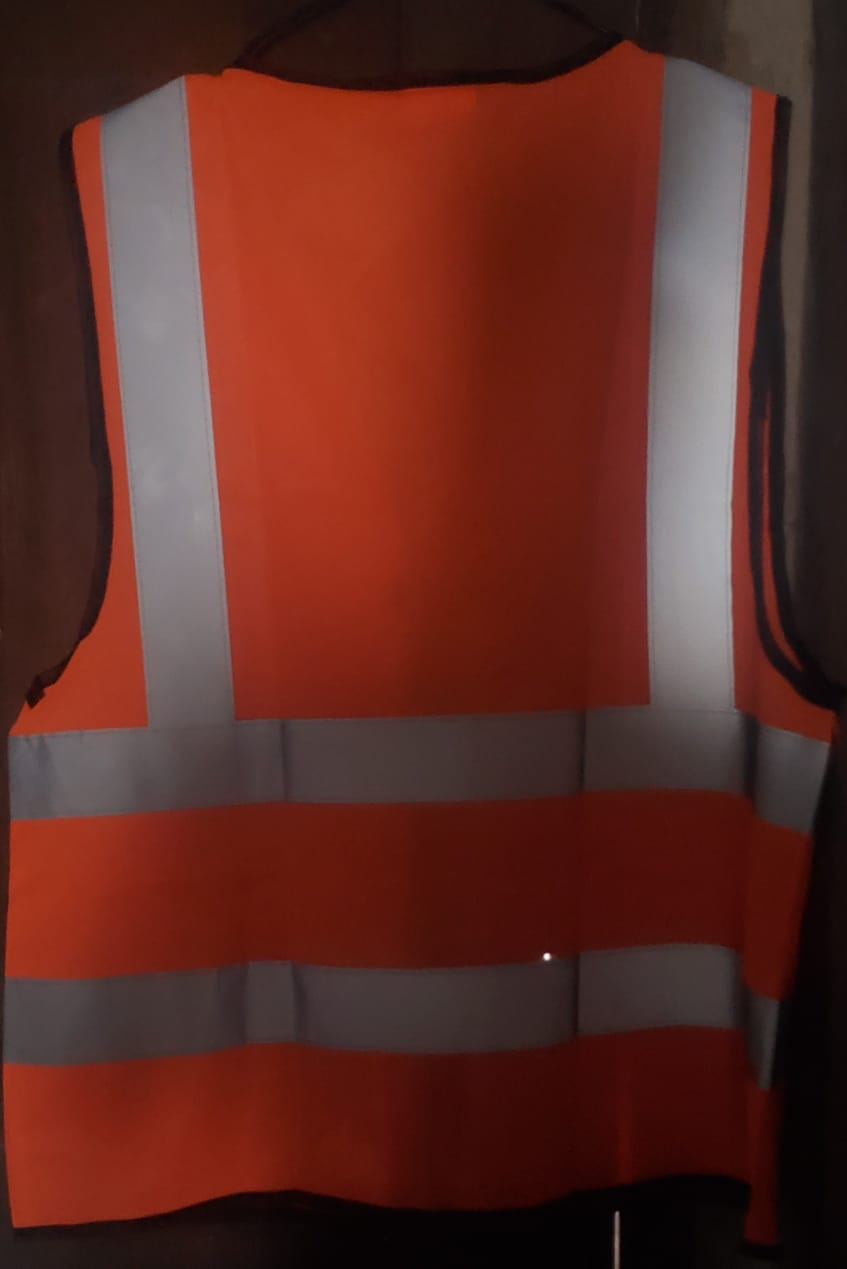vest: (23, 37, 847, 1269)
